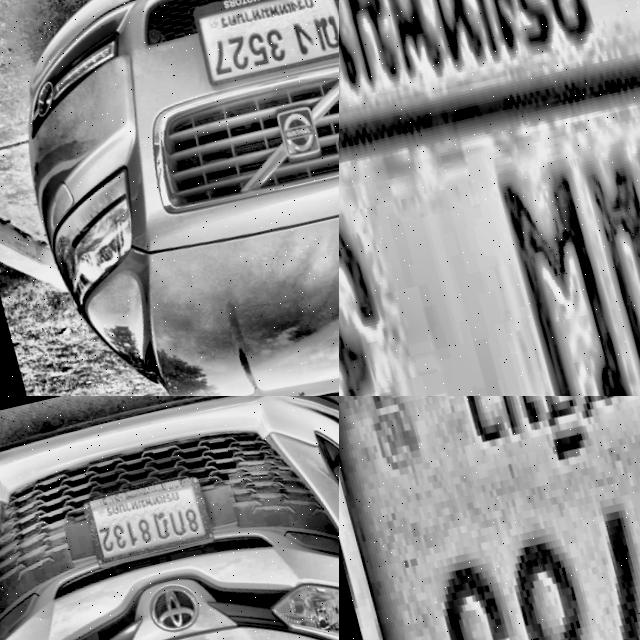license-plate: (339, 0, 640, 396), (339, 396, 640, 640), (75, 461, 219, 574), (184, 0, 339, 94)
